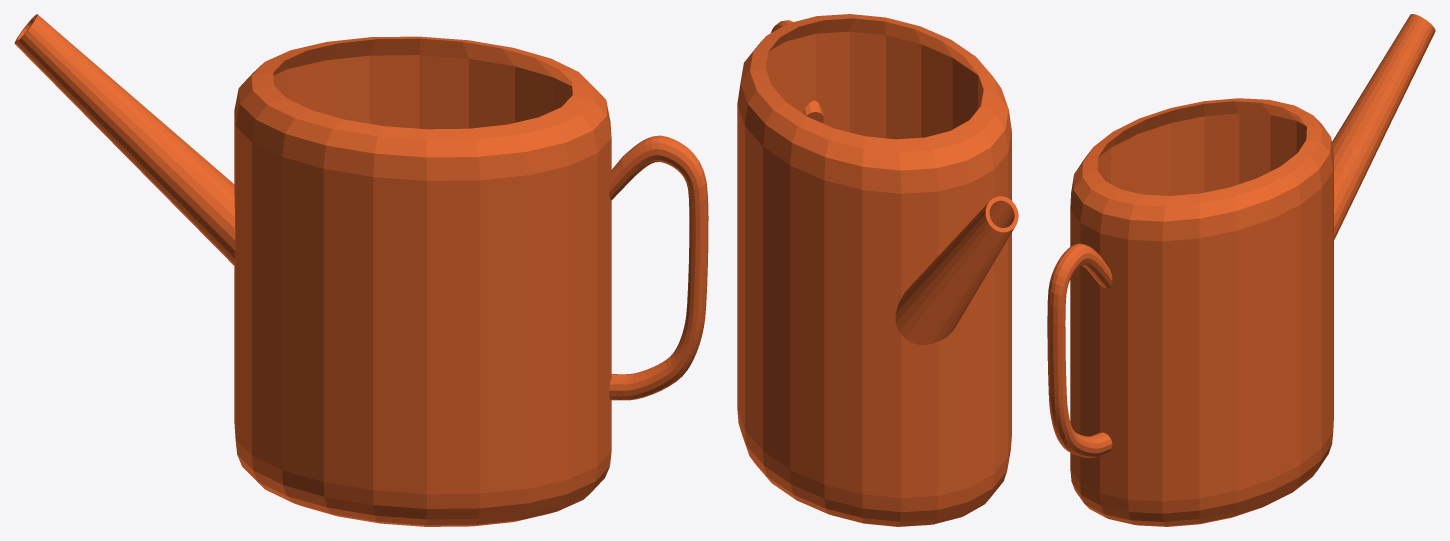
The model's file is Watering can.glb.
The picture shows the model from 3 angles, left to right: view 1: azimuth 30°, elevation 25°; view 2: azimuth 150°, elevation 25°; view 3: azimuth 270°, elevation 25°; orthographic projection. The views are drawn at different scales.
Parts seen in each view (by area): view 1: Cylinder001, Cylinder002, Line002; view 2: Cylinder001, Cylinder002, Line002; view 3: Cylinder001, Cylinder002, Line002.
Part boxes in pixels (x1,y1,x2,y2): Cylinder001: (234, 36, 611, 526); Cylinder002: (14, 14, 235, 265); Line002: (609, 135, 708, 400); Cylinder001: (737, 14, 1011, 526); Cylinder002: (895, 196, 1018, 345); Line002: (771, 20, 823, 122); Cylinder001: (1070, 98, 1333, 526); Cylinder002: (1332, 14, 1435, 239); Line002: (1047, 243, 1112, 457).
Bounding box in the file's own units: 482042 × 419865 × 412090.
